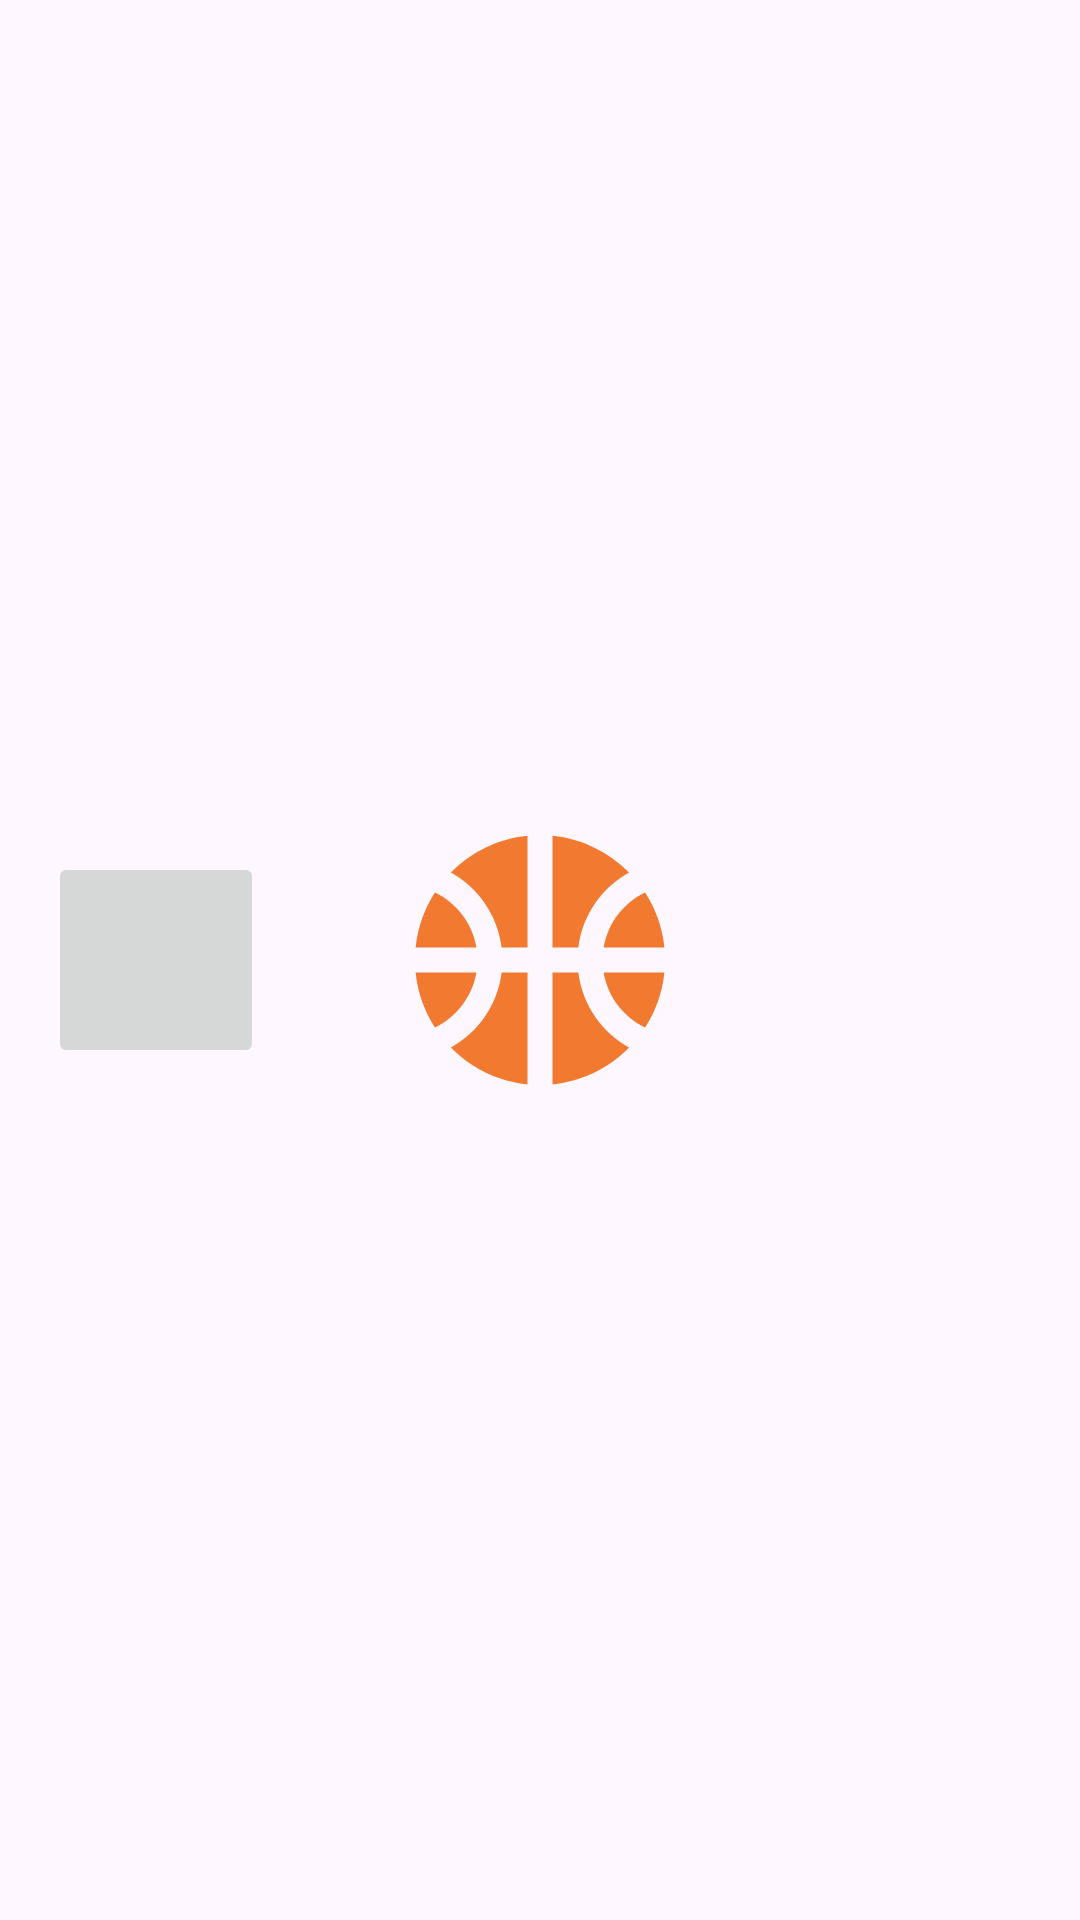

Icon bounding boxes for this 1080px×1920px phone screenshot, format (x1, y1, x2, y2):
sports basketball: (415, 836, 665, 1085)
